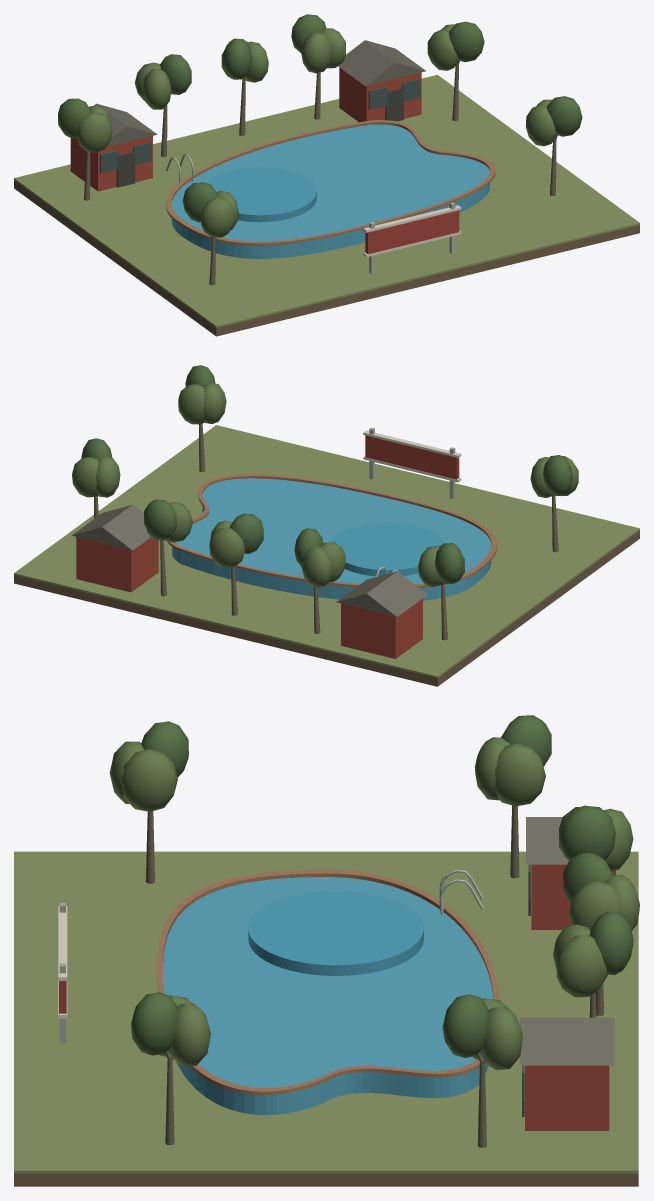
The model's file is gms-53.glb.
3 renders of one model, top to bottom at view 1: azimuth 30°, elevation 25°; view 2: azimuth 150°, elevation 25°; view 3: azimuth 270°, elevation 25°, orthographic. The views are drawn at different scales.
Parts seen in each view (by area): view 1: GMS-53 - estudio del paisaje; view 2: GMS-53 - estudio del paisaje; view 3: GMS-53 - estudio del paisaje.
Boxes of the visible parts, x1=… form: GMS-53 - estudio del paisaje: x1=14, y1=14, x2=639, y2=336; GMS-53 - estudio del paisaje: x1=14, y1=365, x2=639, y2=686; GMS-53 - estudio del paisaje: x1=14, y1=715, x2=639, y2=1186.
Size of the model in its own units: 11.6 by 2.89 by 9.62.
